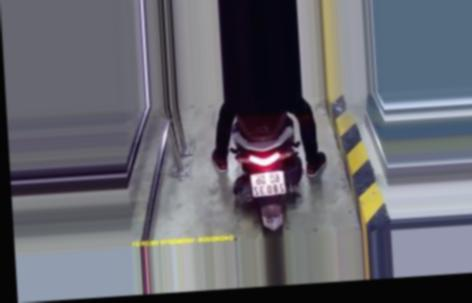License_Plate: (249, 168, 288, 201)
